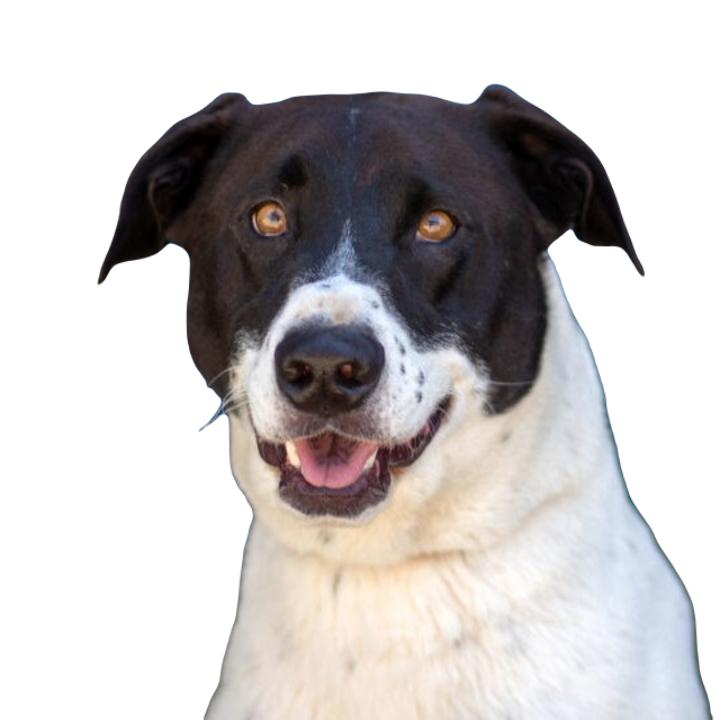Dog: (83, 84, 711, 719)
